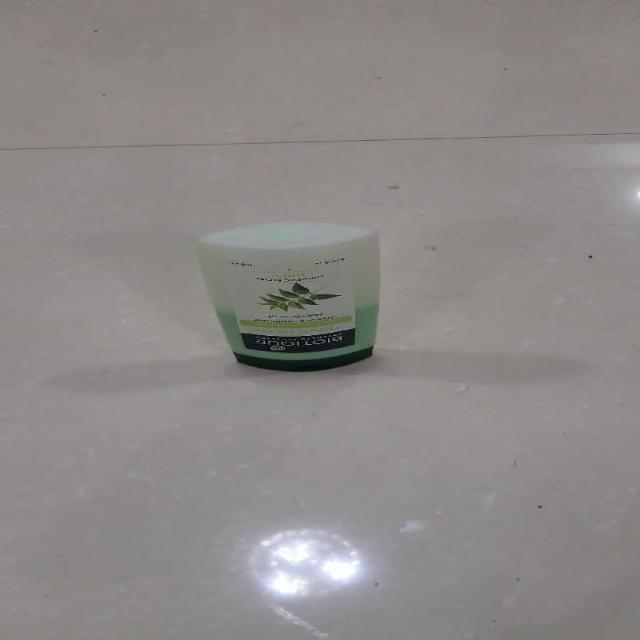plastic: (193, 219, 380, 371)
